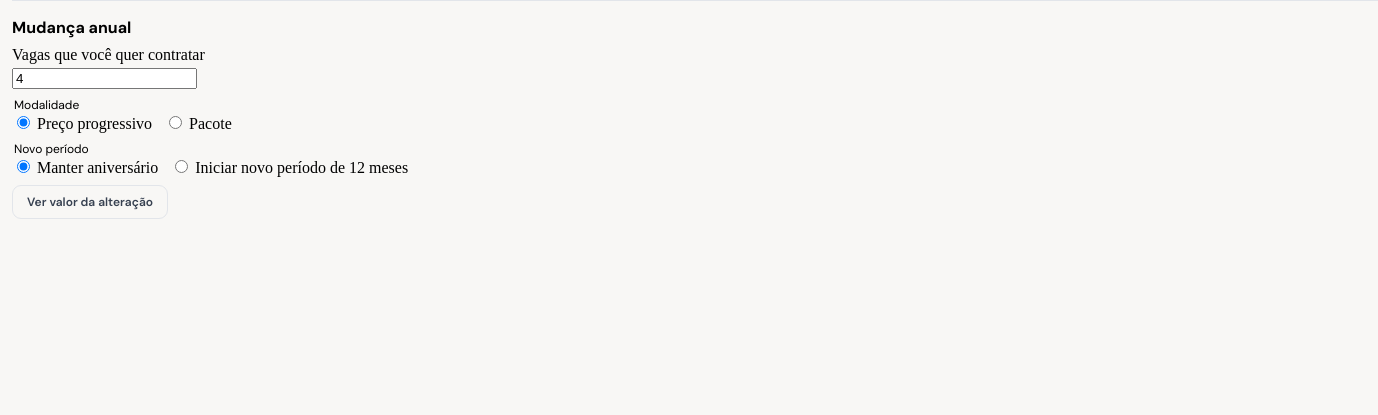
normalizes package seats and shows the server-calculated capacity before acceptance
Click the radio button labelled "Pacote".
click(176, 122)  # box [169,116,182,129]
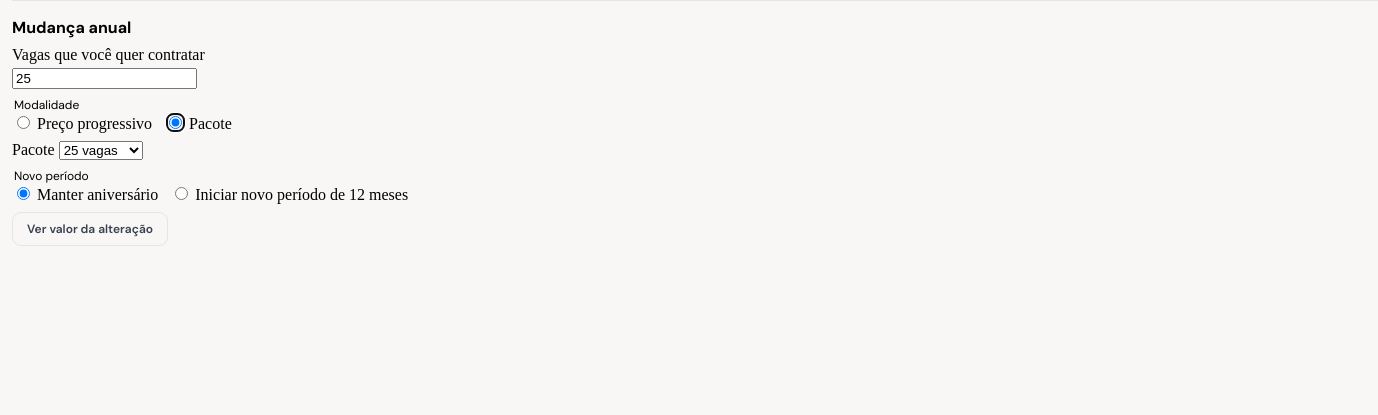
Expected: the number field labelled "Vagas que você quer contratar" holds "25", [12,68,197,89]
Click the button "Ver valor da alteração".
click(90, 229)  # box [12,212,168,246]
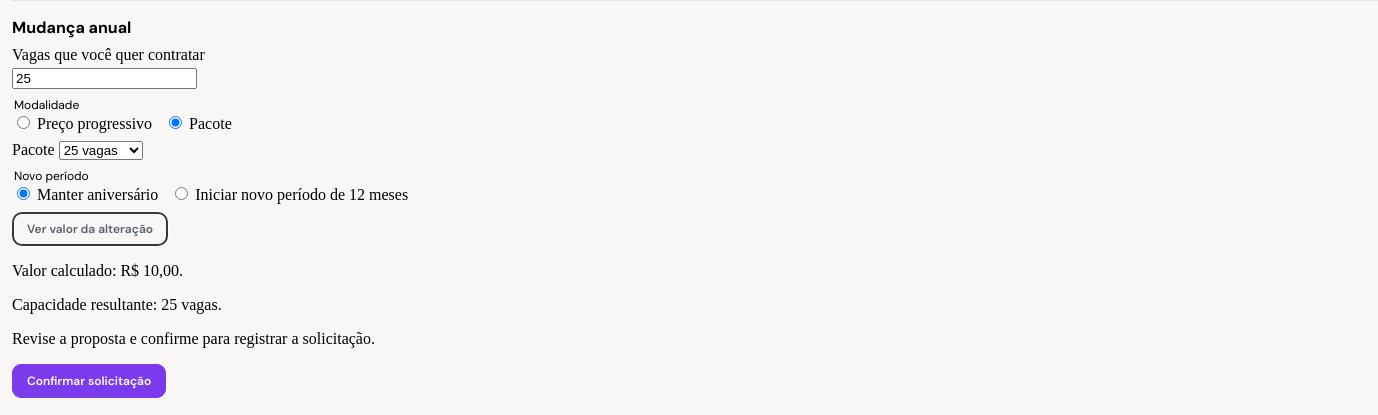
Expected: the text "Capacidade resultante: 25 vagas." is shown, [12,296,222,313]
